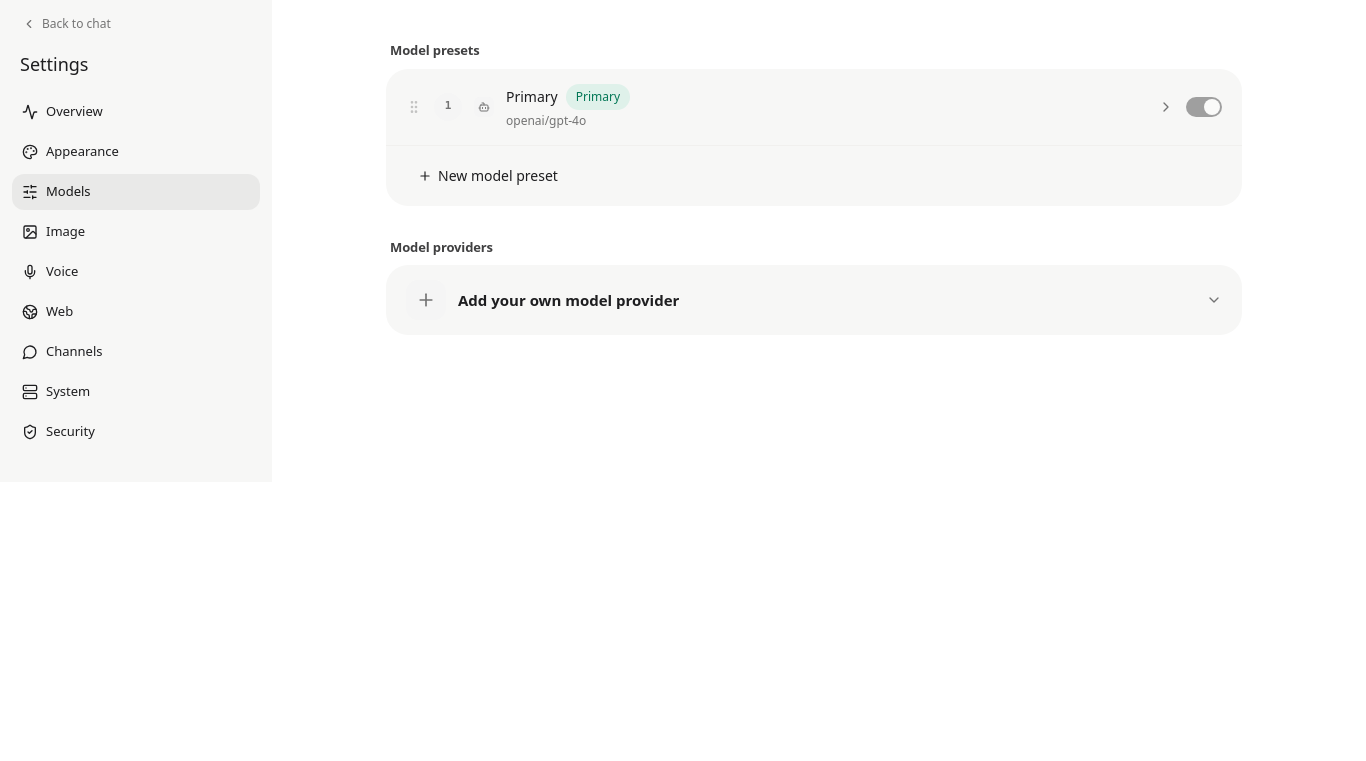
Settings models › creates presets in the inline editor and can cancel without opening a dialog
Click the button "New model preset" at (488, 176), box x1=406 y1=158 x2=570 y2=194
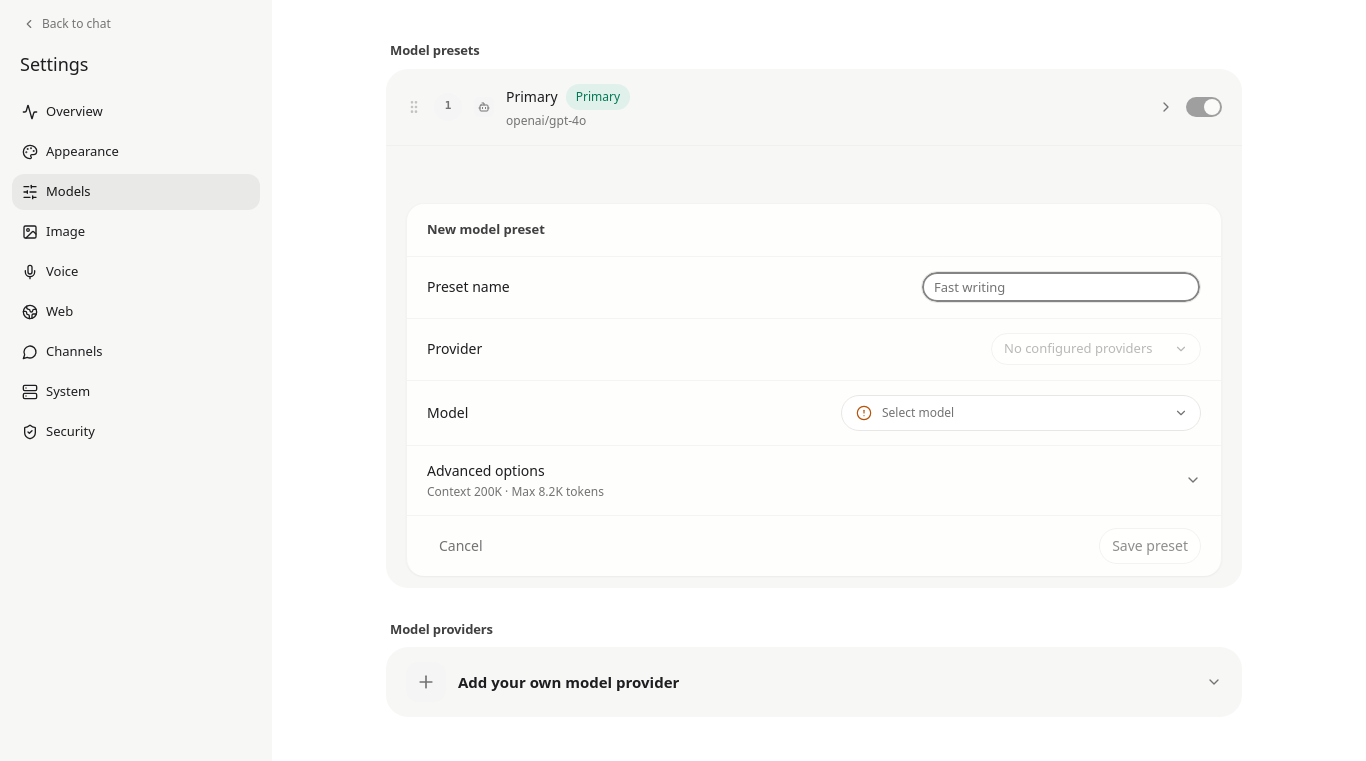
Expected: the text "Temperature" is not shown
Result: the field with placeholder "Fast writing" is empty at x1=921 y1=271 x2=1201 y2=303
Click the button "Advanced options Context 200K · Max 8.2K tokens" at (486, 470), box x1=407 y1=444 x2=1221 y2=514
(page scrolled)
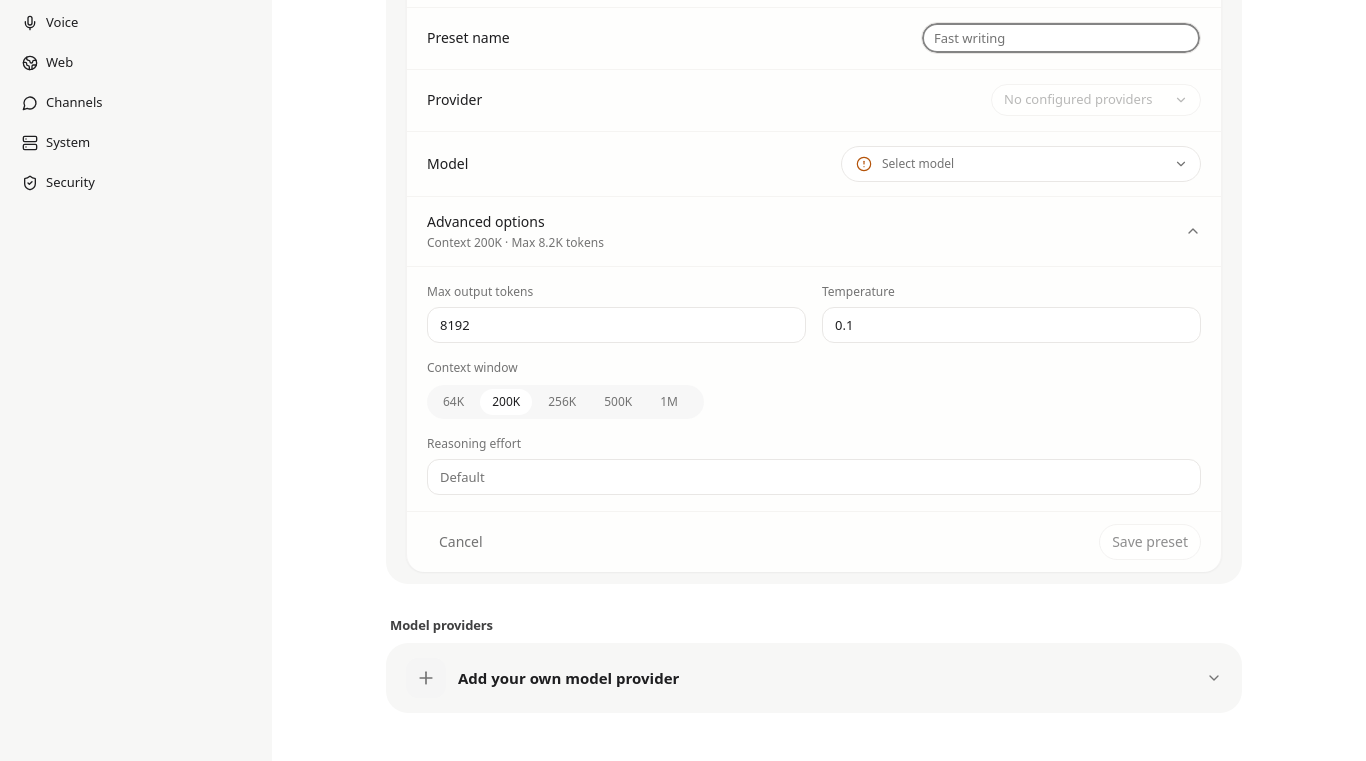
Result: the text "Temperature" is shown at x1=822 y1=282 x2=895 y2=300
Click the button "Cancel" at (461, 542), box x1=427 y1=524 x2=495 y2=560
(page scrolled)
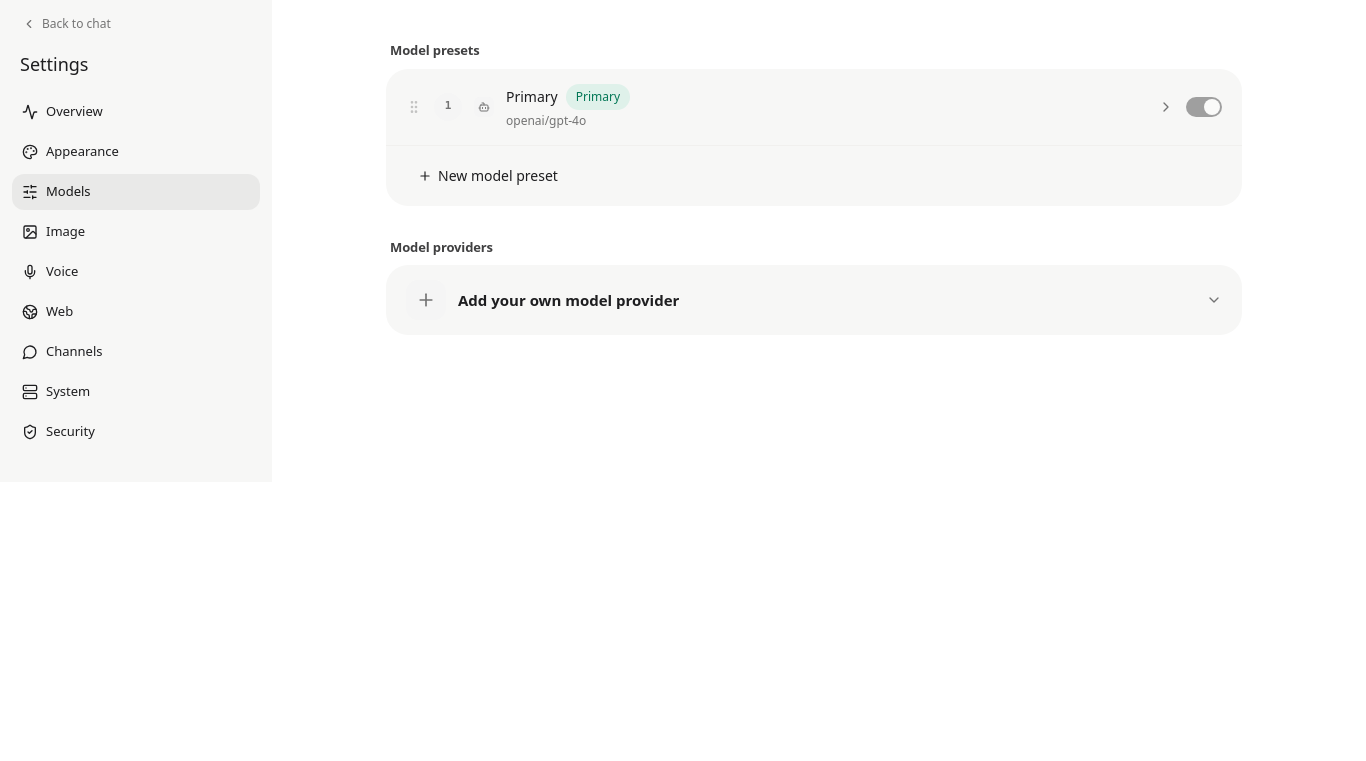
Click the button "New model preset" at (488, 176), box x1=406 y1=158 x2=570 y2=194
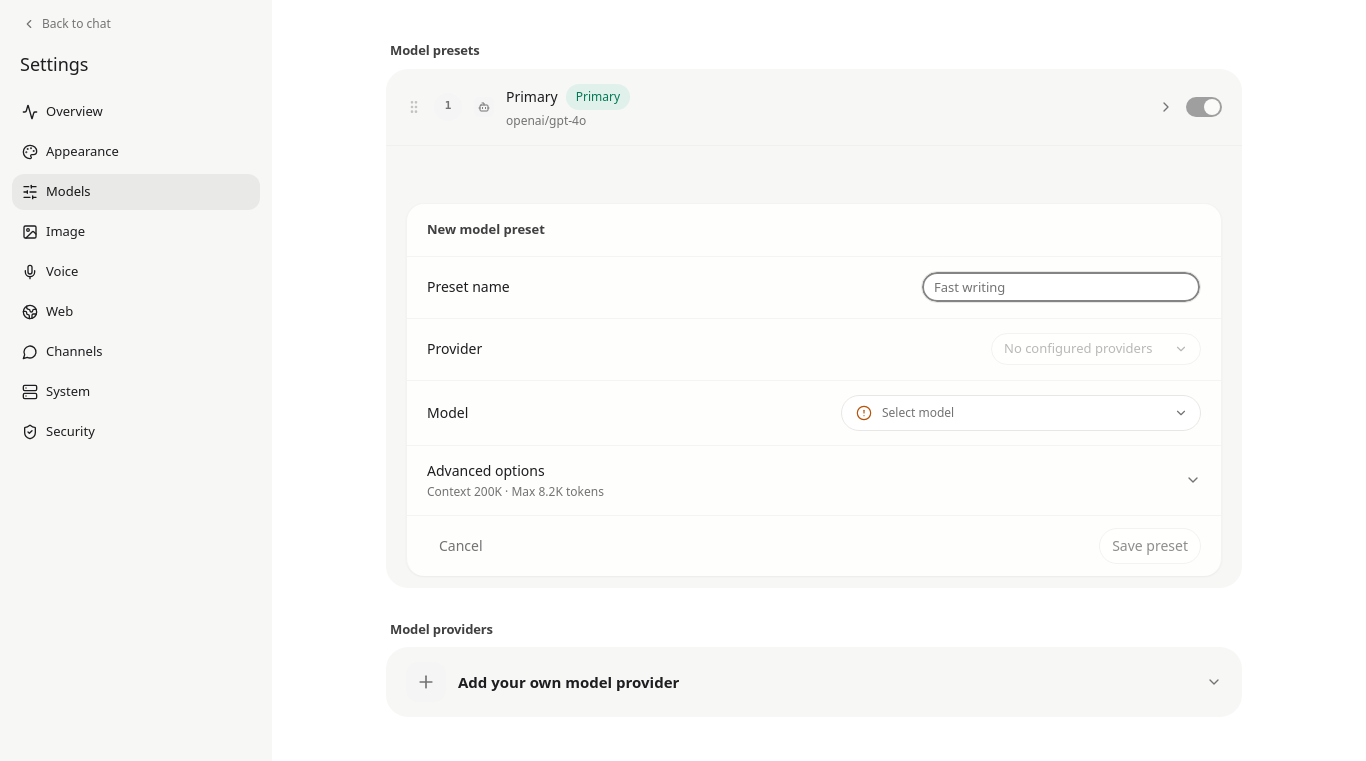
Result: the field with placeholder "Fast writing" is empty at x1=921 y1=271 x2=1201 y2=303
